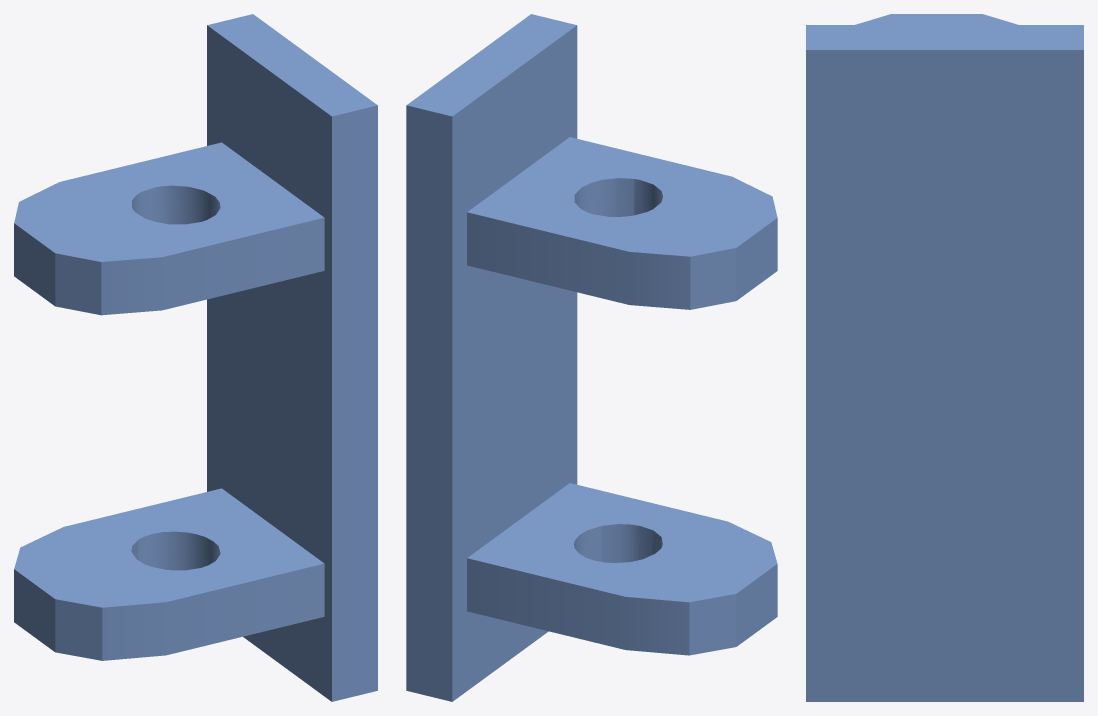
The picture shows the model from 3 angles, left to right: view 1: azimuth 30°, elevation 25°; view 2: azimuth 150°, elevation 25°; view 3: azimuth 270°, elevation 25°; orthographic projection. The views are drawn at different scales.
Visible parts, largest first — view 1: mesh3; view 2: mesh3; view 3: mesh3.
Part boxes in pixels (x1,y1,x2,y2): mesh3: (14, 14, 377, 701); mesh3: (406, 14, 777, 701); mesh3: (806, 14, 1083, 701).
Size of the model in its own units: 0.0112 by 0.022 by 0.0085.
